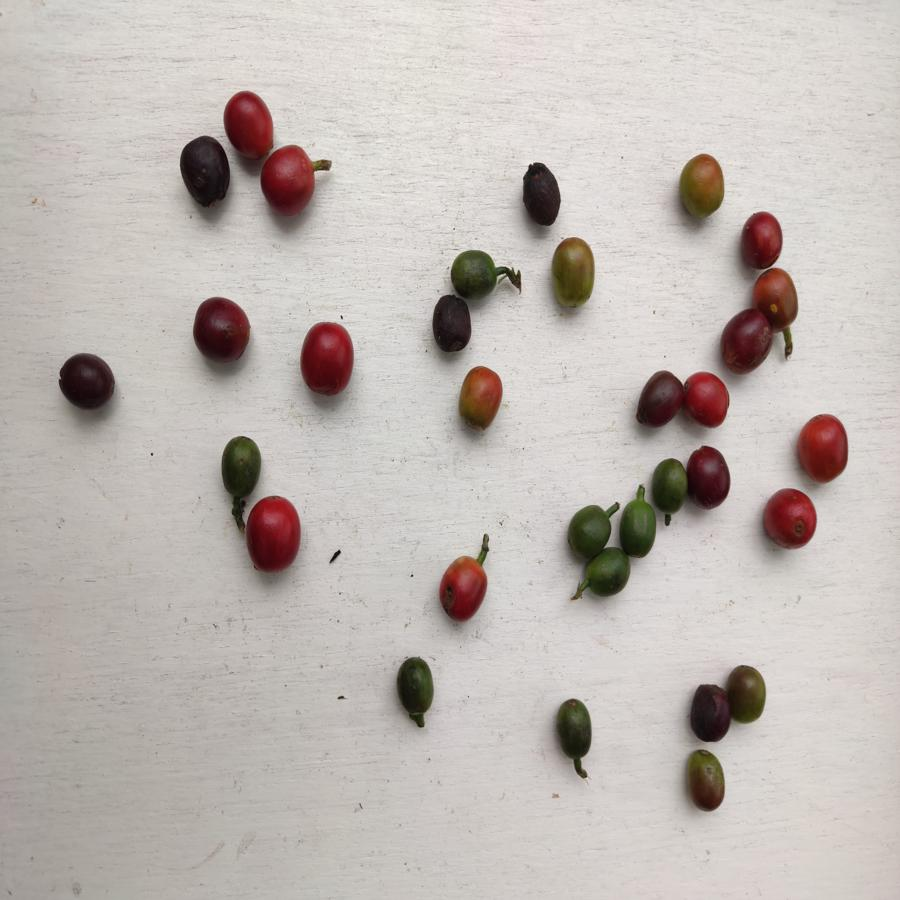Inmaduro: (448, 247, 498, 295)
Maduro: (244, 492, 302, 573), (258, 142, 317, 217), (297, 322, 355, 398), (795, 410, 850, 487), (221, 89, 275, 159), (763, 488, 818, 553), (437, 554, 488, 621), (735, 210, 785, 269), (683, 369, 732, 428)
Pinton: (550, 235, 598, 311), (676, 152, 726, 220), (457, 365, 506, 430), (685, 747, 729, 814), (219, 435, 263, 498), (754, 267, 798, 328), (618, 498, 661, 559), (393, 652, 434, 715), (583, 546, 632, 598), (555, 698, 596, 759), (566, 501, 609, 559), (728, 663, 767, 724), (649, 456, 689, 515)
Sobremaduro: (178, 133, 232, 211), (192, 295, 251, 364), (720, 310, 773, 376), (58, 352, 119, 409), (635, 365, 682, 431), (688, 443, 732, 511), (519, 161, 563, 226), (430, 292, 474, 353), (688, 682, 730, 742)
